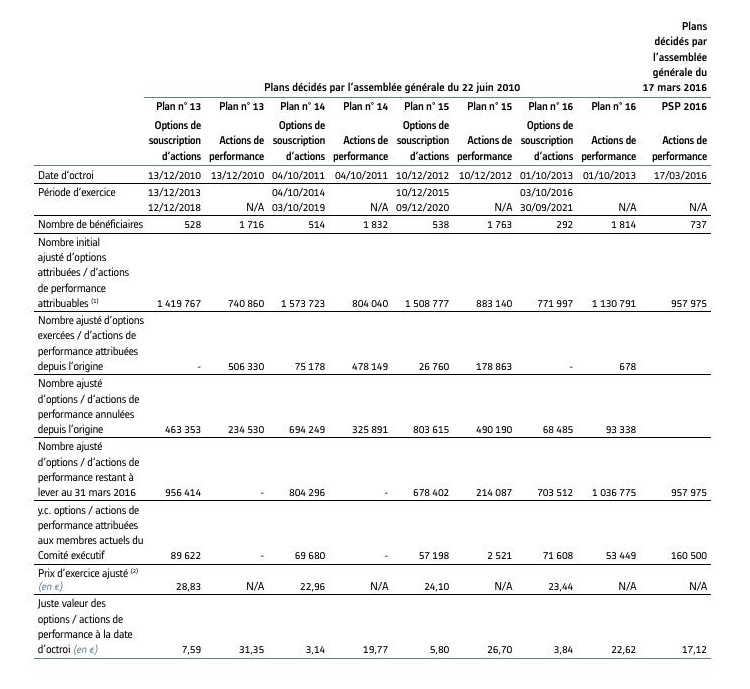table: (0, 0, 750, 689)
